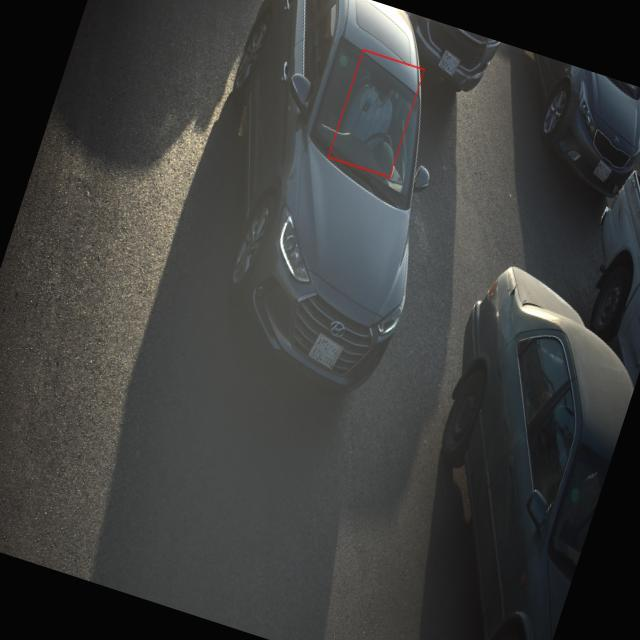windshield: (302, 35, 432, 208)
